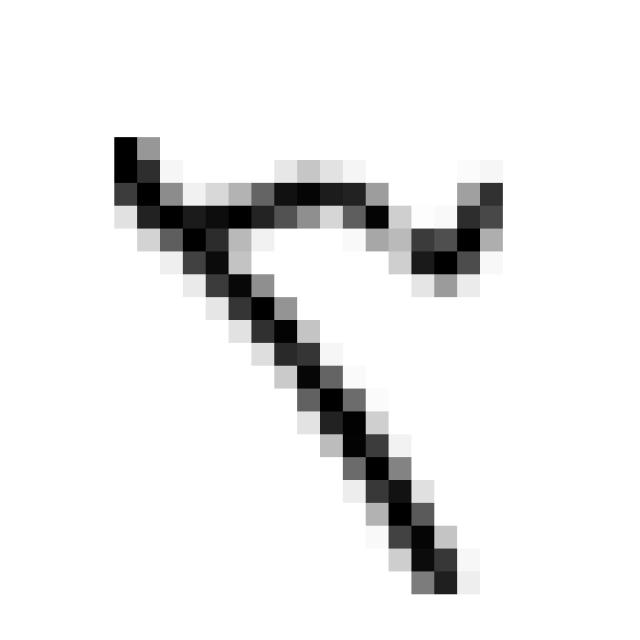3 -three-: (89, 102, 519, 612)
